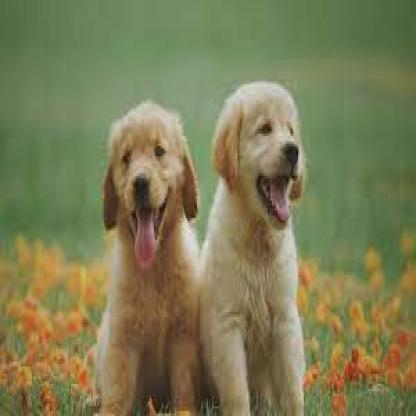dog: (202, 79, 308, 416), (96, 99, 202, 416)
